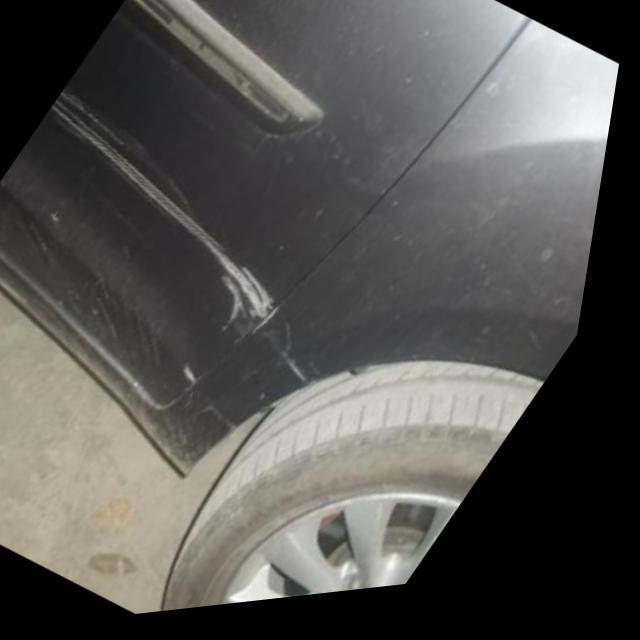scratch: (49, 87, 293, 360), (0, 249, 207, 483), (189, 364, 215, 394), (49, 212, 75, 237)
